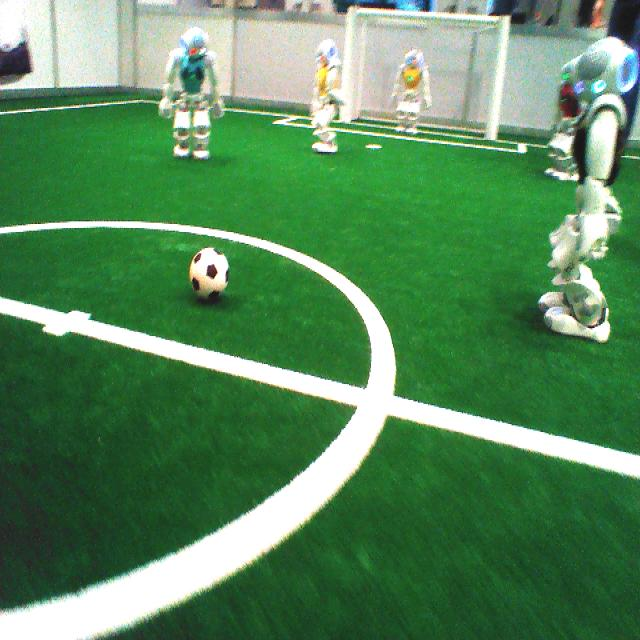ball: (189, 245, 230, 304)
goalpost: (484, 16, 513, 140), (340, 9, 360, 119)
